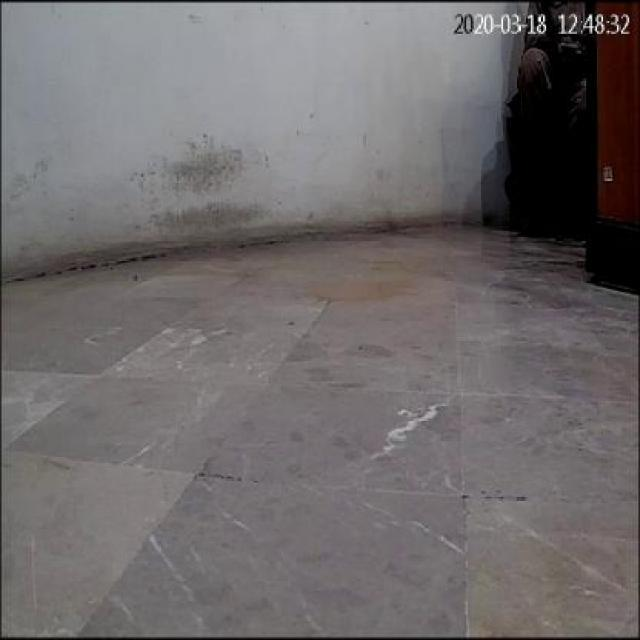spill: (312, 278, 411, 308)
